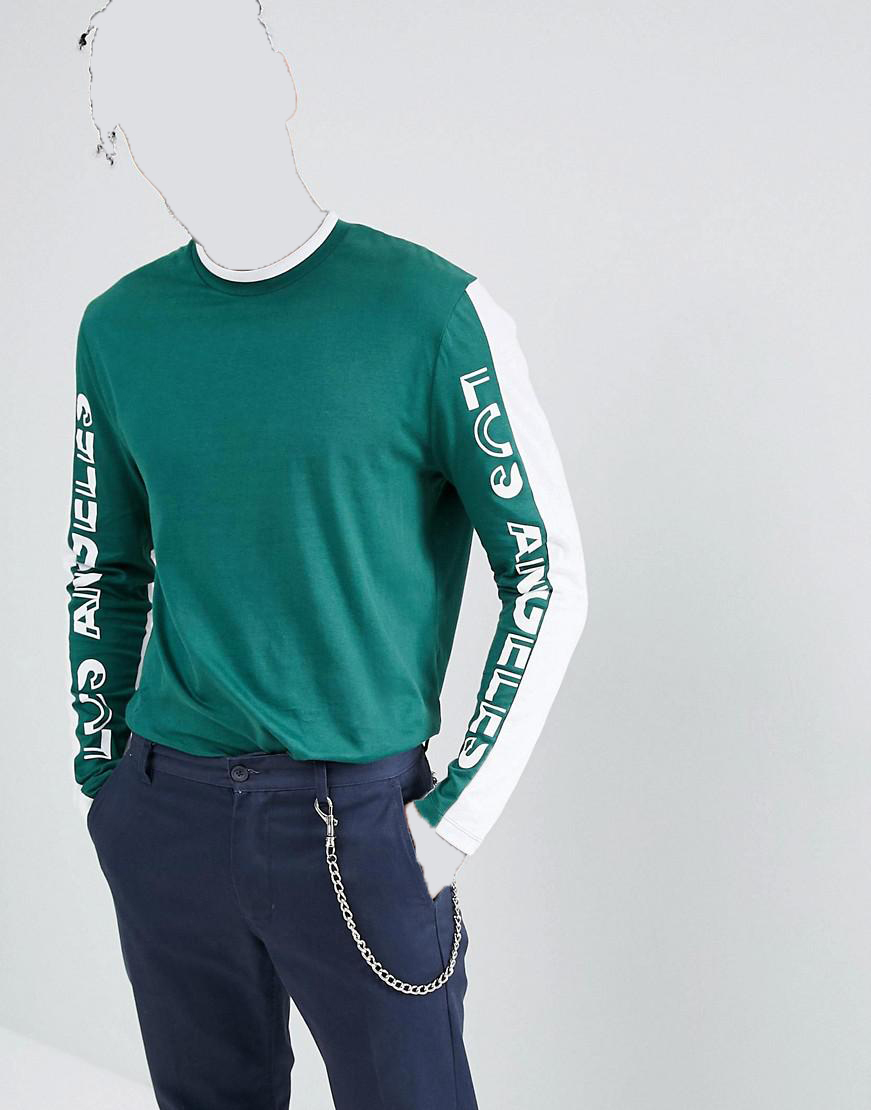teeshirt: (34, 217, 598, 864)
